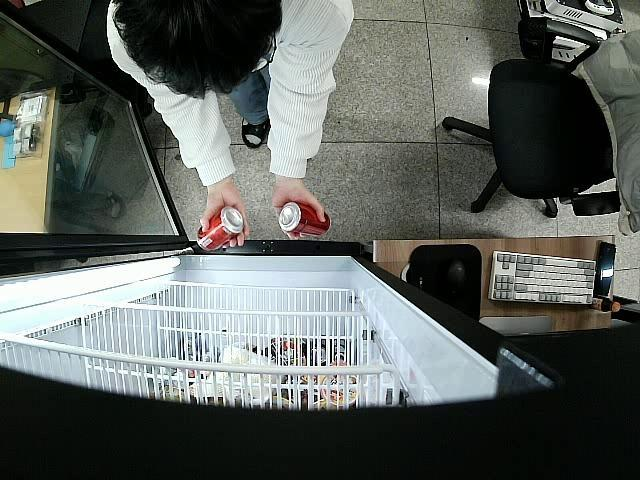11_cocaColaZero: (196, 206, 245, 252), (277, 200, 332, 236)
